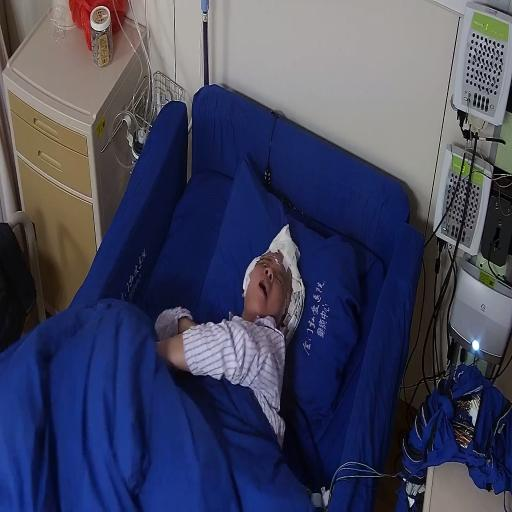Seizure: (237, 235, 295, 327)
